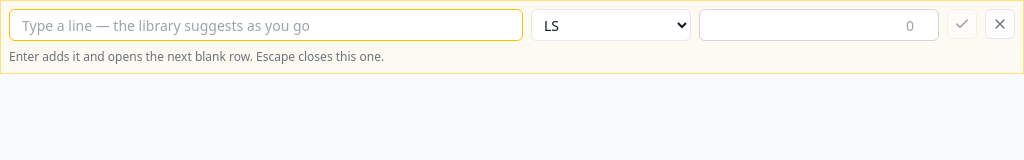
Test: when the library refuses › keeps the line, and says the library is what failed
Type "aggregate base" into the dropdown named "What is this line?" at (266, 25), box [9, 9, 523, 41]
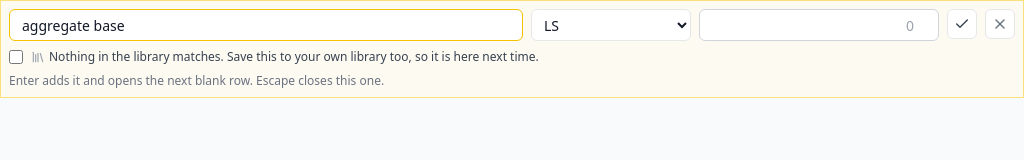
Click the checkbox at (16, 57), box [9, 50, 23, 64]
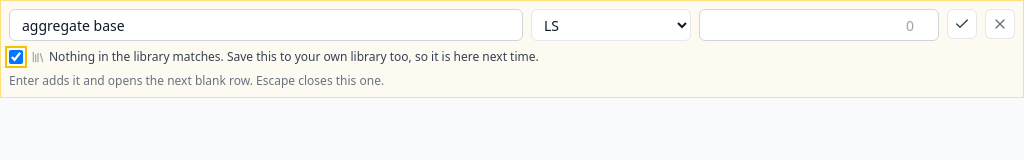
Click the button named "Add this line" at (962, 24), box [947, 9, 977, 39]
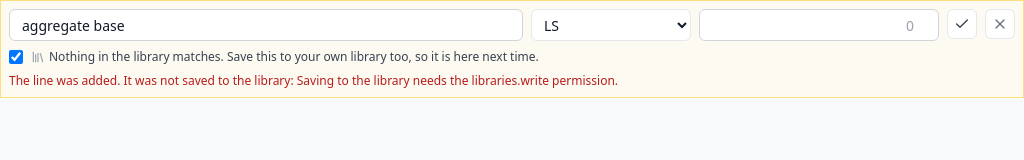
Expected: the text "needs the libraries.write permission" is shown, [9, 72, 618, 89]
